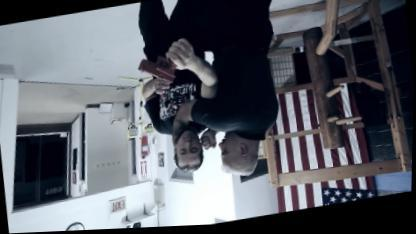pistol: (136, 54, 180, 90)
